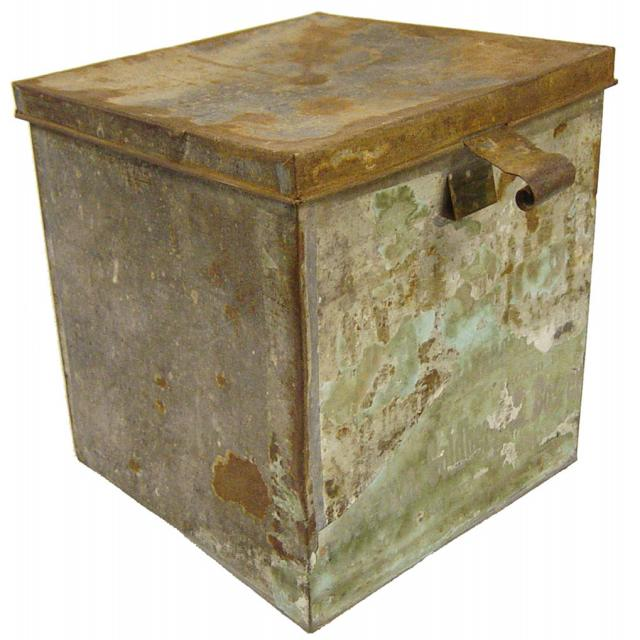Box: (11, 11, 619, 634)
